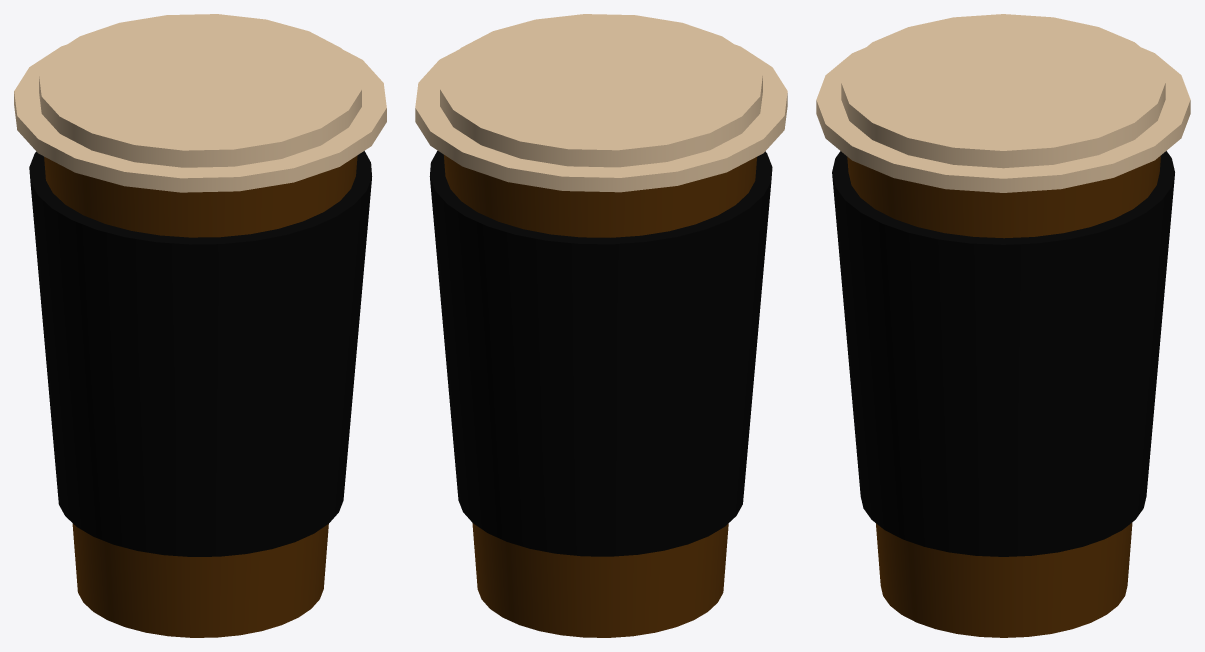
The model's file is coffee.glb.
3 views of the same model, side by side, from view 1: azimuth 30°, elevation 25°; view 2: azimuth 150°, elevation 25°; view 3: azimuth 270°, elevation 25° (orthographic).
Parts seen in each view (by area): view 1: coffee cup, coffee_cup_lid, coffeecup; view 2: coffee cup, coffee_cup_lid, coffeecup; view 3: coffee cup, coffee_cup_lid, coffeecup.
Part boxes in pixels (left/top/right/bottom): coffee cup: left=29, top=151, right=372, bottom=556; coffee_cup_lid: left=14, top=14, right=386, bottom=192; coffeecup: left=44, top=155, right=357, bottom=637; coffee cup: left=429, top=150, right=772, bottom=556; coffee_cup_lid: left=415, top=14, right=787, bottom=192; coffeecup: left=444, top=155, right=756, bottom=637; coffee cup: left=832, top=151, right=1174, bottom=556; coffee_cup_lid: left=816, top=14, right=1190, bottom=192; coffeecup: left=847, top=155, right=1160, bottom=637.
Size of the model in its own units: 0.3542 by 0.5256 by 0.3542.
